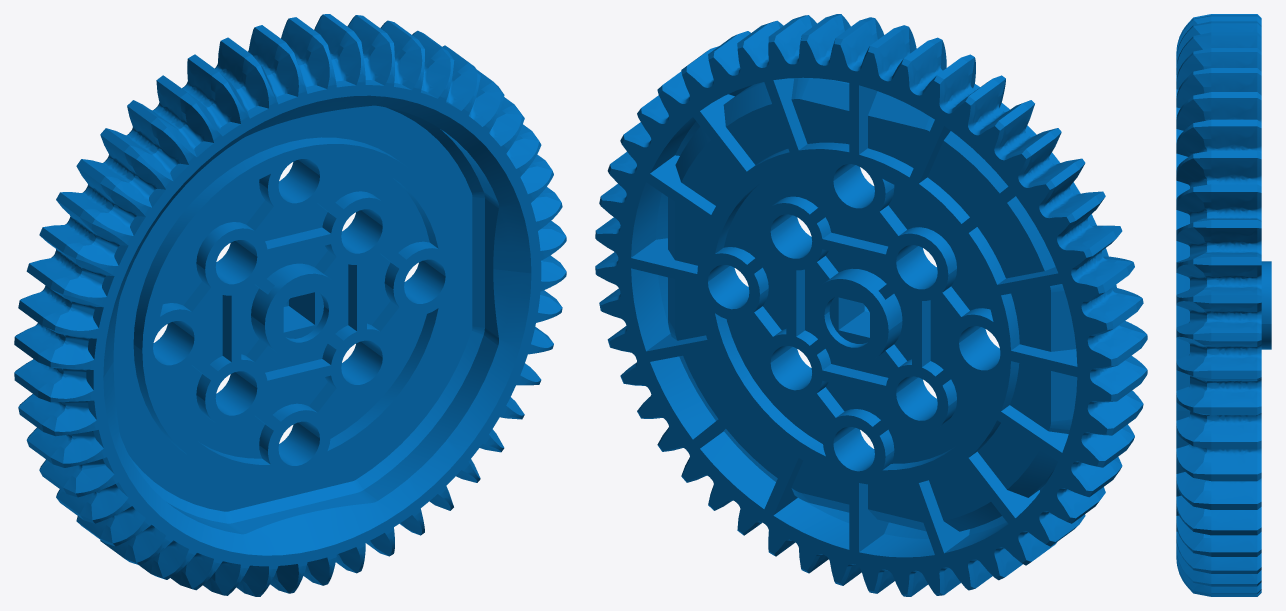
Rendered from 48 Tooth Hybrid Gear (228-2500-253).glb.
3 renders of one model, left to right at view 1: azimuth 30°, elevation 25°; view 2: azimuth 150°, elevation 25°; view 3: azimuth 270°, elevation 25°, orthographic. The views are drawn at different scales.
Visible parts, largest first — view 1: 48 Tooth Hybrid Gear (228-2500-253); view 2: 48 Tooth Hybrid Gear (228-2500-253); view 3: 48 Tooth Hybrid Gear (228-2500-253).
Boxes of the visible parts, box(x1,y1,x2,y2) form: 48 Tooth Hybrid Gear (228-2500-253): box(14, 14, 566, 596); 48 Tooth Hybrid Gear (228-2500-253): box(595, 14, 1147, 596); 48 Tooth Hybrid Gear (228-2500-253): box(1176, 14, 1271, 596).
Bounding box in the file's own units: 2.08 × 2.08 × 0.34.
